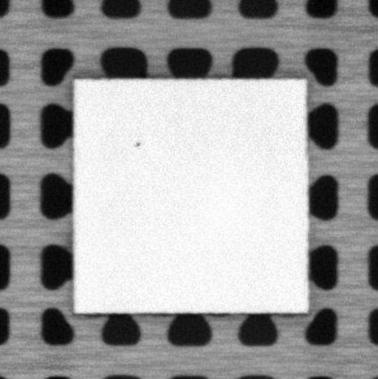DIE_INK: (131, 139, 144, 149)
